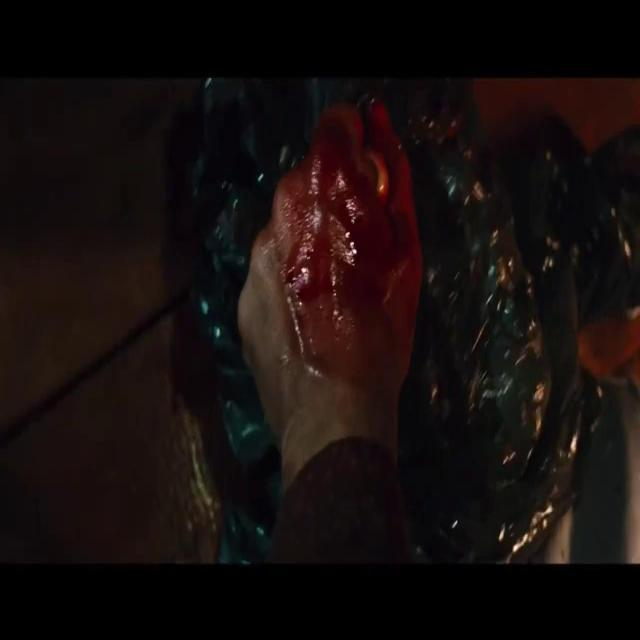flood: (274, 92, 442, 394)
